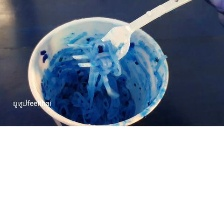paper_cup: (20, 10, 174, 124)
